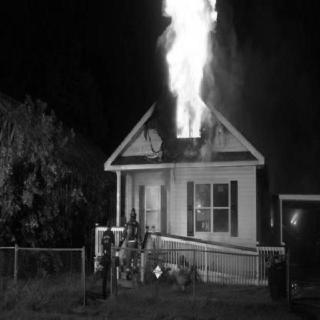Fire: (158, 2, 221, 138)
